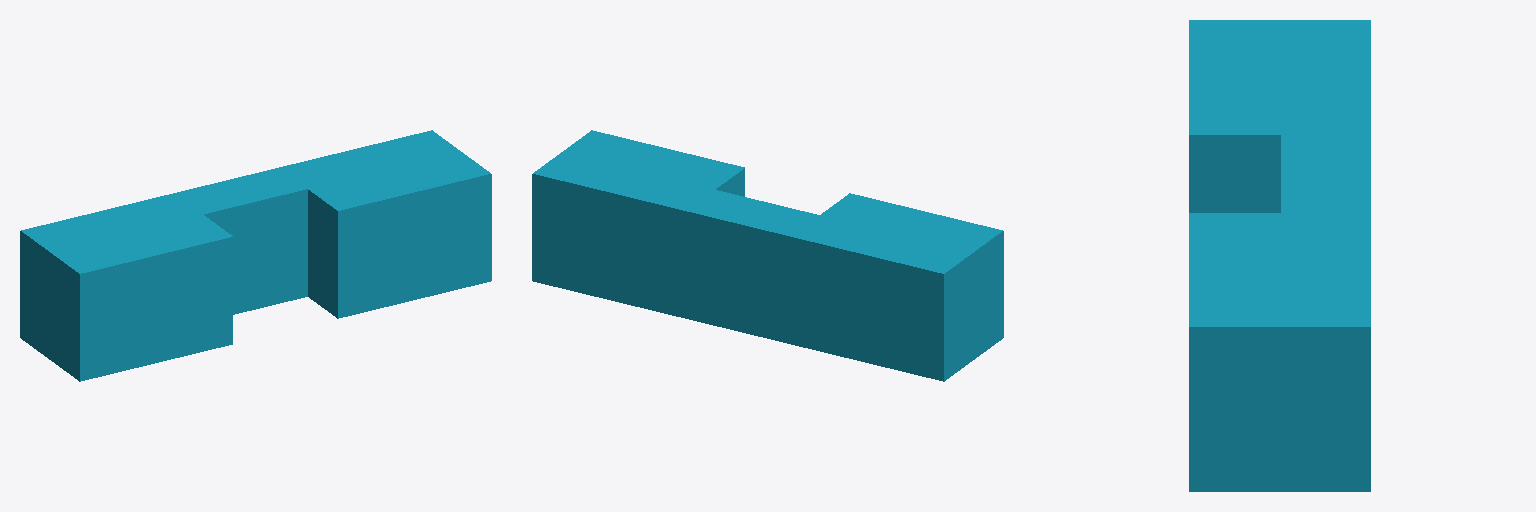
robot.urdf — obj_11:
<robot name="obj_11" version="1.0">
  <link name="obj_11">
    <collision name="interlocking-puzzle-6-2-collision.001">
      <origin rpy="0.00000 0.00000 0.00000" xyz="-0.59081 0.25604 0.31793"/>
      <geometry>
        <mesh filename="../meshes/obj/interlocking-puzzle-6-2-collision.001.obj" scale="2.09740 2.09740 2.09740"/>
      </geometry>
    </collision>
    <collision name="interlocking-puzzle-6-2-collision.002">
      <origin rpy="0.00000 0.00000 0.00000" xyz="-0.24353 0.25604 0.31793"/>
      <geometry>
        <mesh filename="../meshes/obj/interlocking-puzzle-6-2-collision.002.obj" scale="2.09740 2.09740 2.09740"/>
      </geometry>
    </collision>
    <collision name="interlocking-puzzle-6-2-collision.003">
      <origin rpy="0.00000 0.00000 0.00000" xyz="-0.41714 0.29572 0.31793"/>
      <geometry>
        <mesh filename="../meshes/obj/interlocking-puzzle-6-2-collision.003.obj" scale="2.09740 2.09740 2.09740"/>
      </geometry>
    </collision>
    <inertial>
      <inertia ixx="0.00058" ixy="0.00000" ixz="0.00000" iyy="0.00472" iyz="-0.00000" izz="0.00478"/>
      <origin rpy="0.00000 0.00000 0.00000" xyz="-0.41719 0.26153 0.31793"/>
      <mass value="0.03000"/>
    </inertial>
    <visual name="interlocking-puzzle-6-2">
      <material name="Light Blue"/>
      <origin rpy="-3.14159 0.00000 0.00000" xyz="-0.41719 0.23643 0.31793"/>
      <geometry>
        <mesh filename="../meshes/obj/interlocking-puzzle-6.002.obj" scale="0.01049 0.01049 0.01049"/>
      </geometry>
    </visual>
  </link>
  <material name="Light Blue">
    <color rgba="0.15294 0.68627 0.80000 1.00000"/>
  </material>
</robot>

--- What the picture shows (computed from the rendered views, not written in the file) ---
3 views of the same robot in one strip: view 1: azimuth 30°, elevation 25°; view 2: azimuth 150°, elevation 25°; view 3: azimuth 270°, elevation 25° (orthographic).
Robot: obj_11 — 1 links, 0 joints (none); root link obj_11; default pose: every joint at zero.
Links seen in each view (by area): view 1: obj_11; view 2: obj_11; view 3: obj_11.
Boxes of the visible links, <box> form: obj_11: <box>20,130,491,381</box>; obj_11: <box>532,130,1003,381</box>; obj_11: <box>1189,20,1370,491</box>.
Size in the robot's own frame: 0.6294 by 0.1574 by 0.1574 metres.
1 mesh visuals loaded from 1 distinct referenced files (1 OBJ).